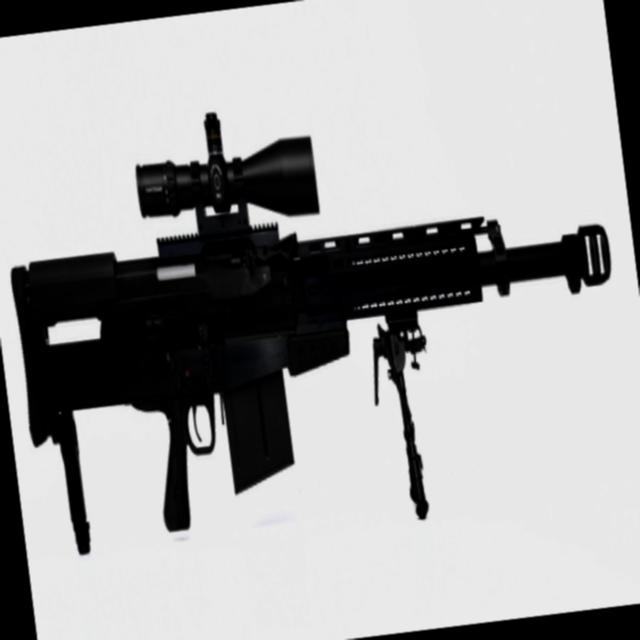rifle: (0, 55, 640, 588)
